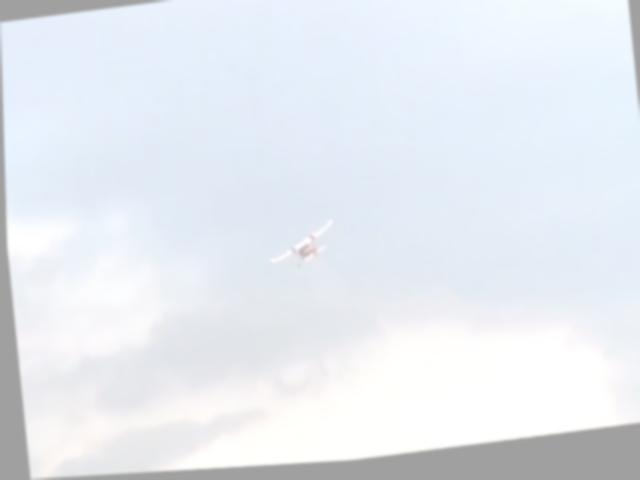plane: (264, 225, 334, 275)
